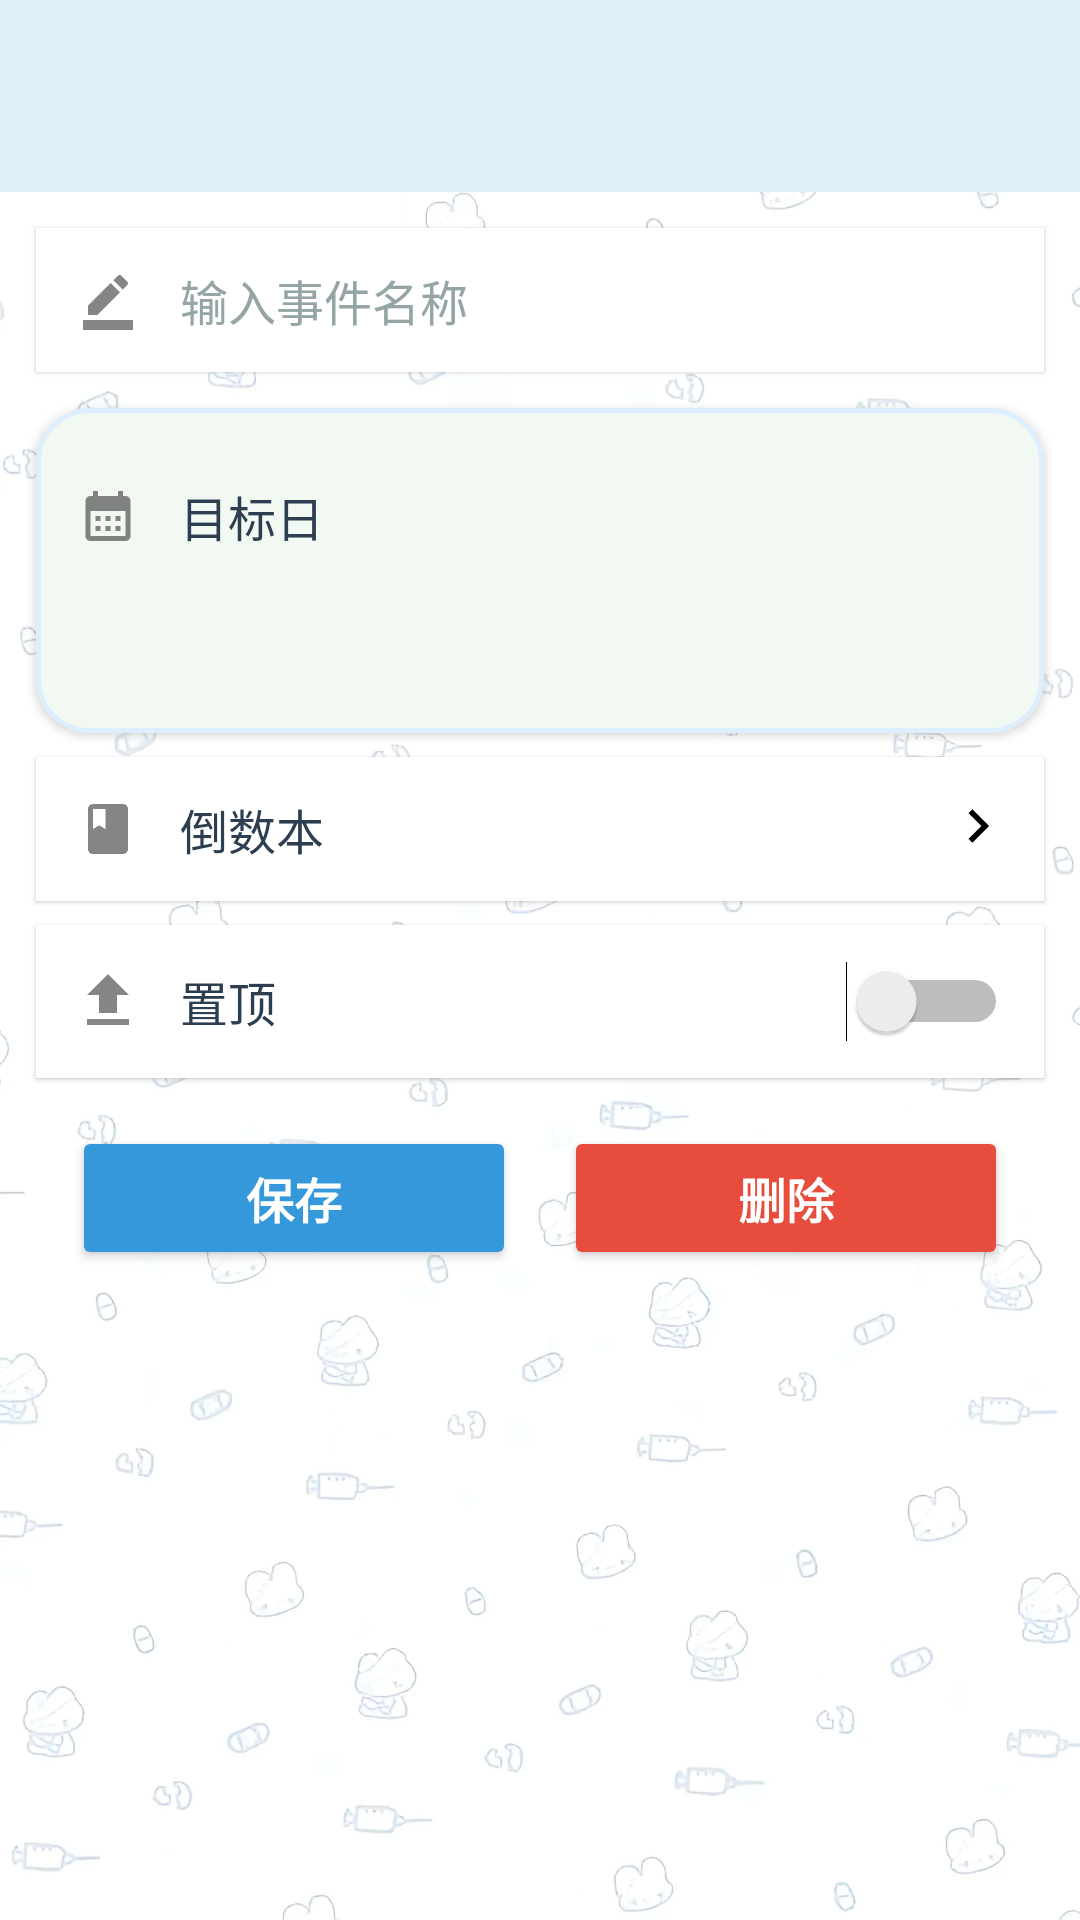

Where to tap for icons on this 1080×1920 app screen, as (x=x, y=y):
edit: (x=108, y=302)
next: (x=978, y=826)
